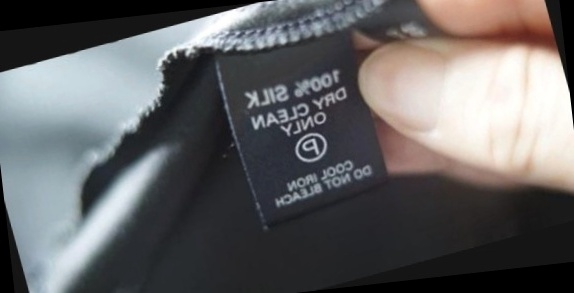dry_clean_any_solvent_except_trichloroethylene: (289, 128, 331, 166)
